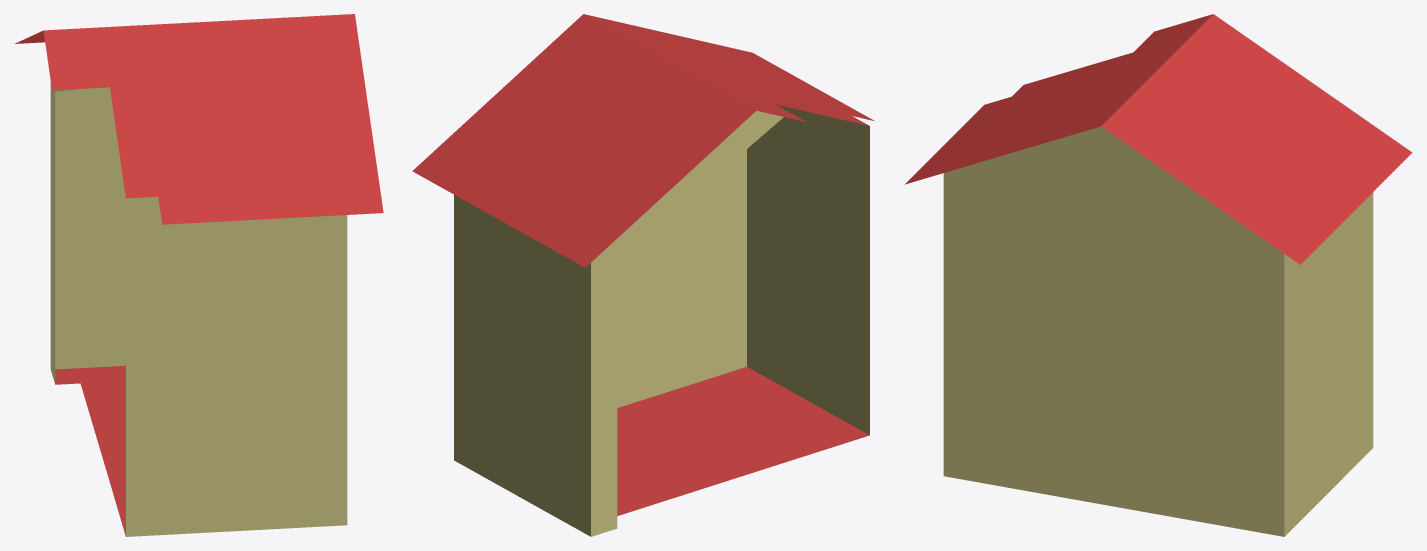
The picture shows the model from 3 angles, left to right: view 1: azimuth 30°, elevation 25°; view 2: azimuth 150°, elevation 25°; view 3: azimuth 270°, elevation 25°; orthographic projection. The views are drawn at different scales.
Size of the model in its own units: 9.36 by 12.69 by 10.79.
